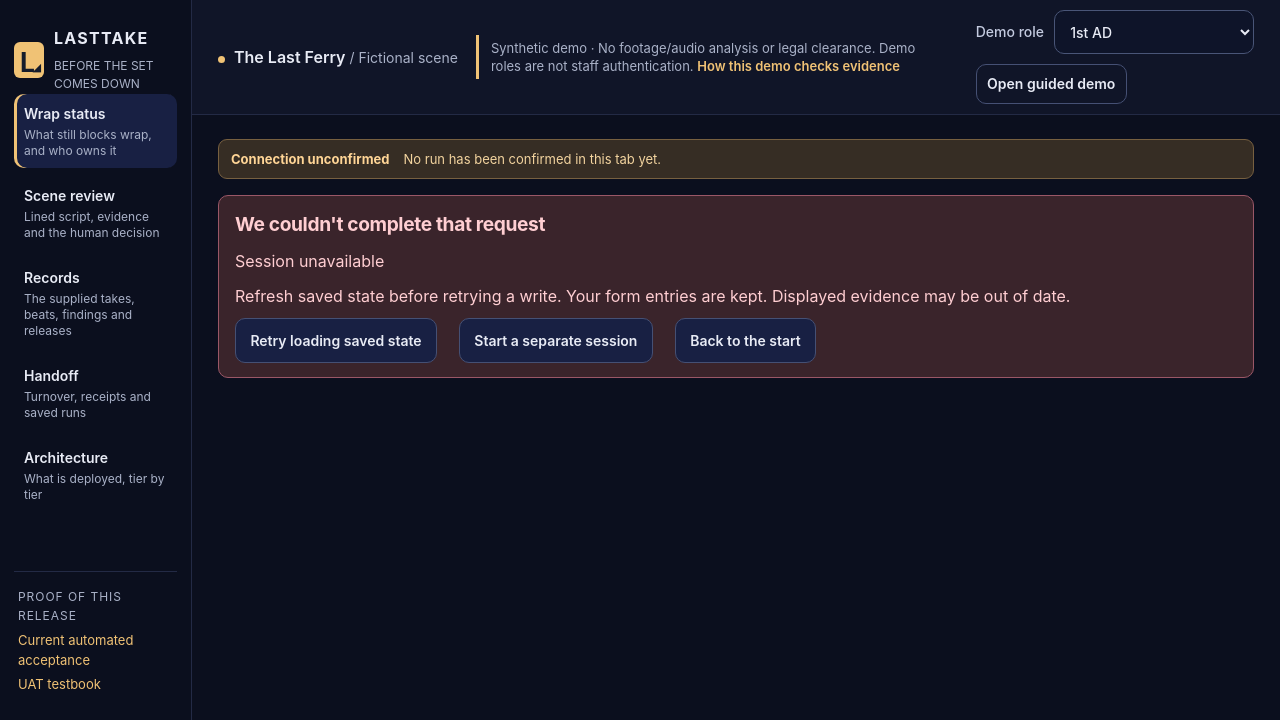
Scenario: renders loading failures and permits a separate session recovery
The image size is (1280, 720).
Expected: the message that starts with "We couldn't complete that request" shows "Session unavailable", [235,252,384,272]
Click the button "Start a separate session" at [556, 341], box [459,318,653,363]
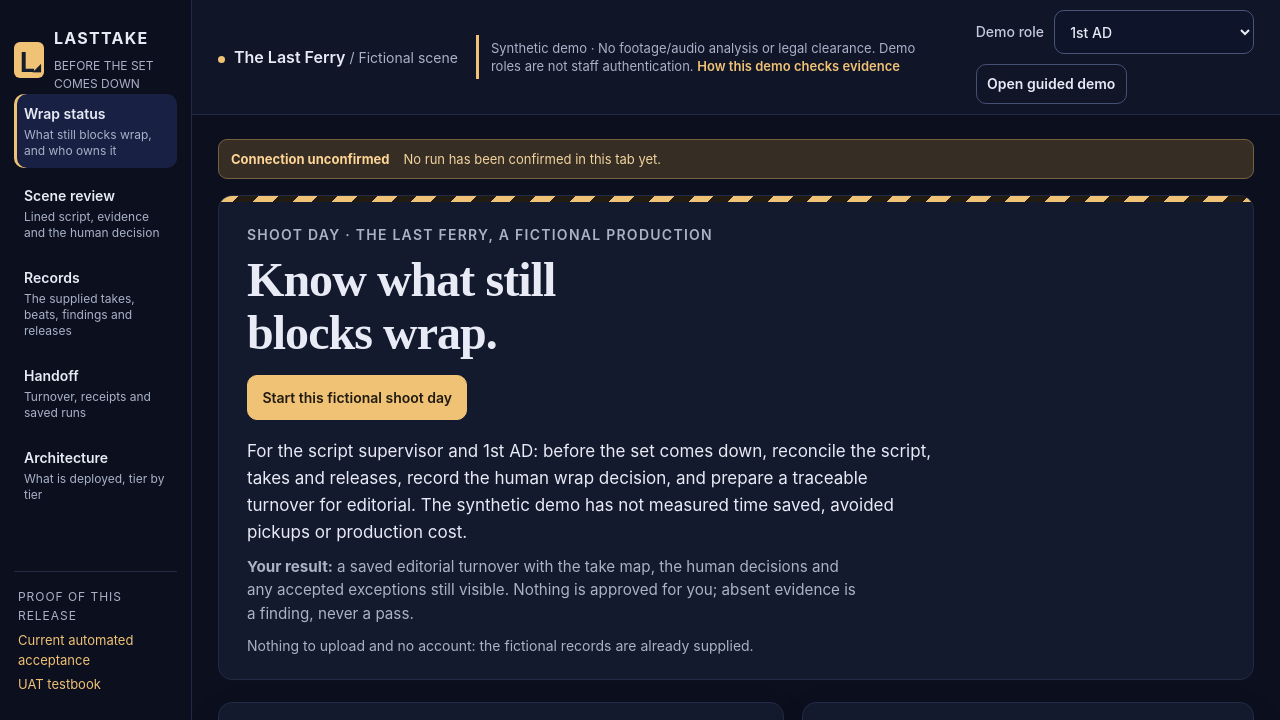
Expected: the heading "Know what still blocks wrap." is shown, [247,253,555,359]
